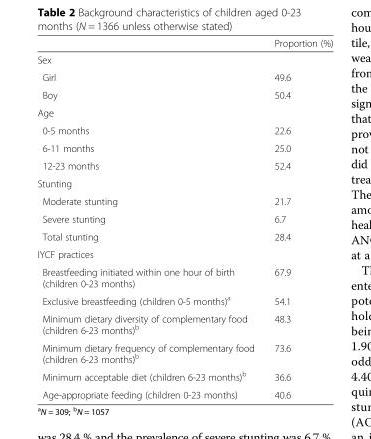table: (36, 37, 332, 399)
table column: (36, 37, 263, 399), (263, 37, 332, 399)
table column header: (36, 37, 332, 50)
table projected row header: (36, 50, 332, 68), (36, 103, 332, 121), (36, 174, 332, 192), (36, 245, 332, 262)
table row: (36, 262, 332, 291), (36, 309, 332, 338), (36, 338, 332, 367), (36, 50, 332, 68), (36, 85, 332, 103), (36, 103, 332, 121), (36, 138, 332, 156), (36, 156, 332, 174), (36, 174, 332, 192), (36, 209, 332, 227), (36, 227, 332, 245), (36, 291, 332, 309), (36, 367, 332, 385), (36, 68, 332, 85), (36, 121, 332, 138), (36, 192, 332, 209), (36, 245, 332, 262), (36, 385, 332, 399), (36, 37, 332, 50)
